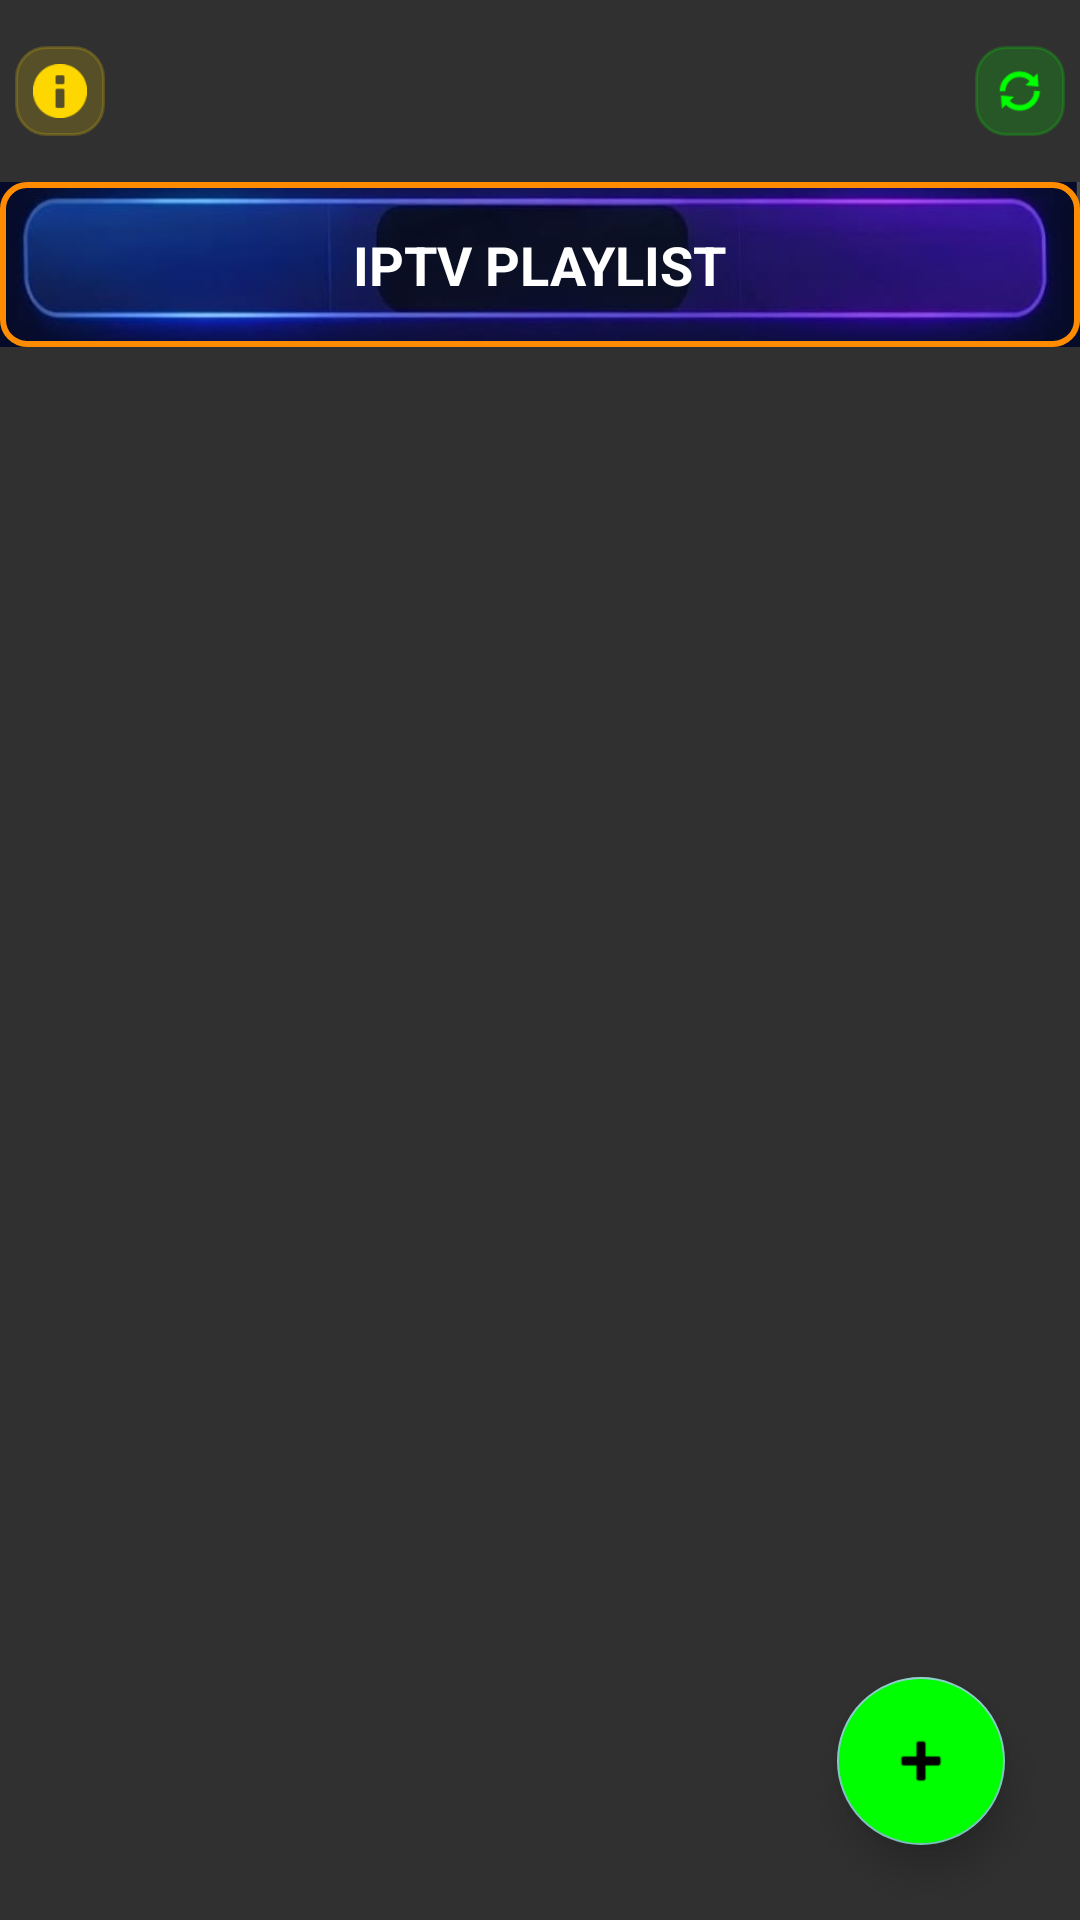

Point at icon controls on the screen. Image size 1080px×1920px, points as (x,y).
add: (921,1761)
info: (60,91)
popup sync: (1020,91)
